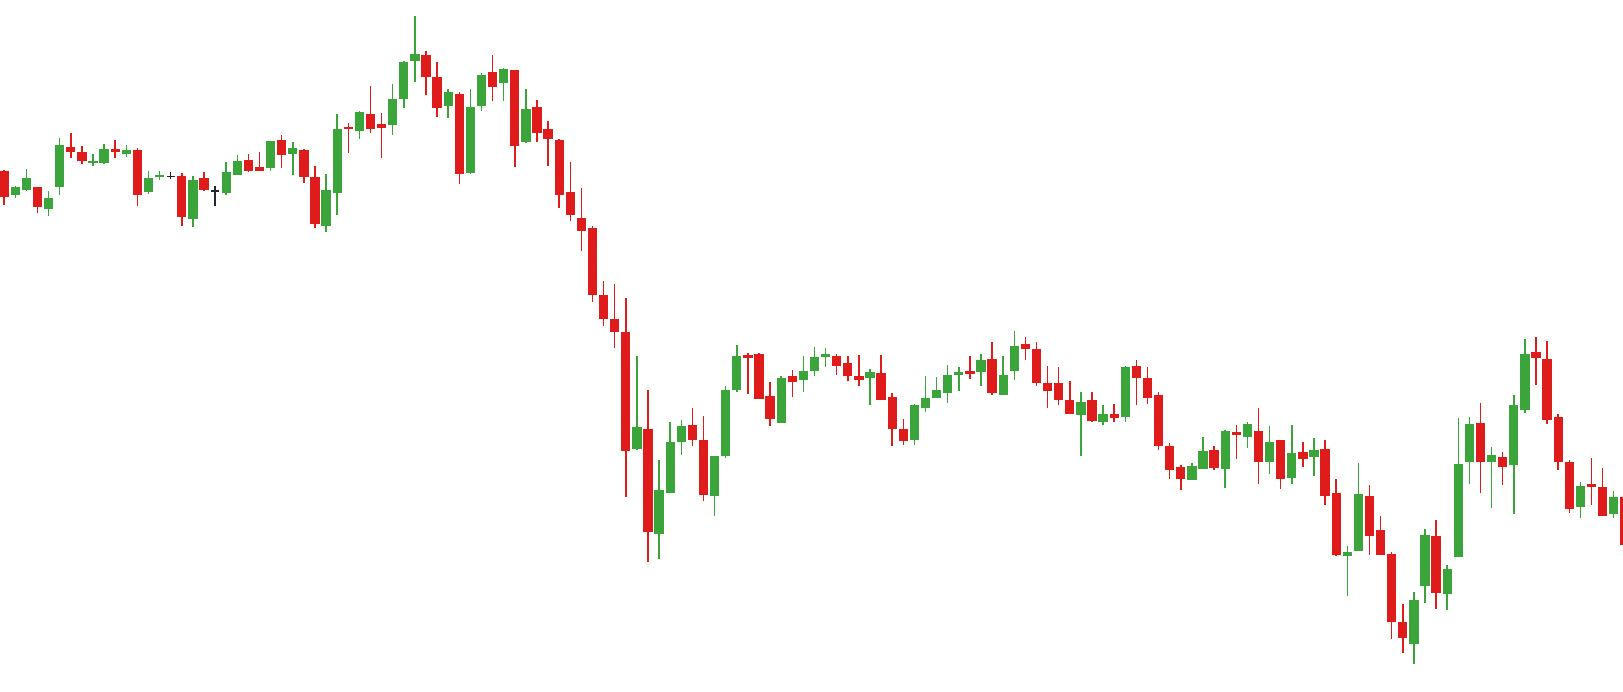buy: (178, 159, 333, 236)
